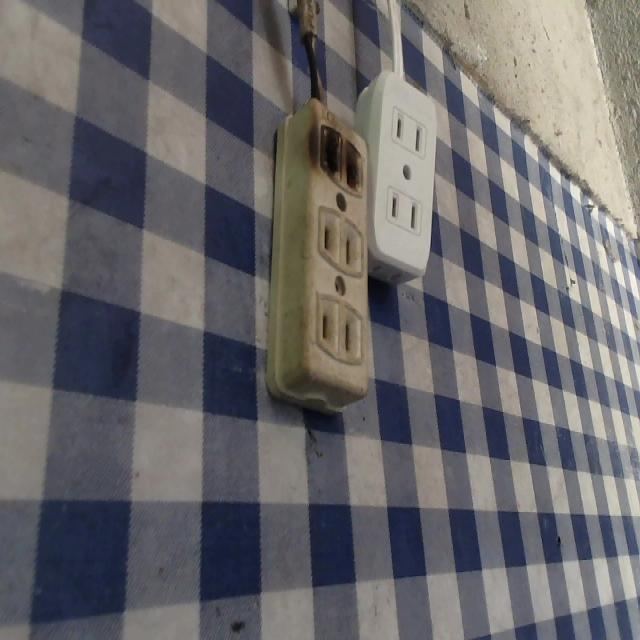-: (302, 107, 371, 200)
